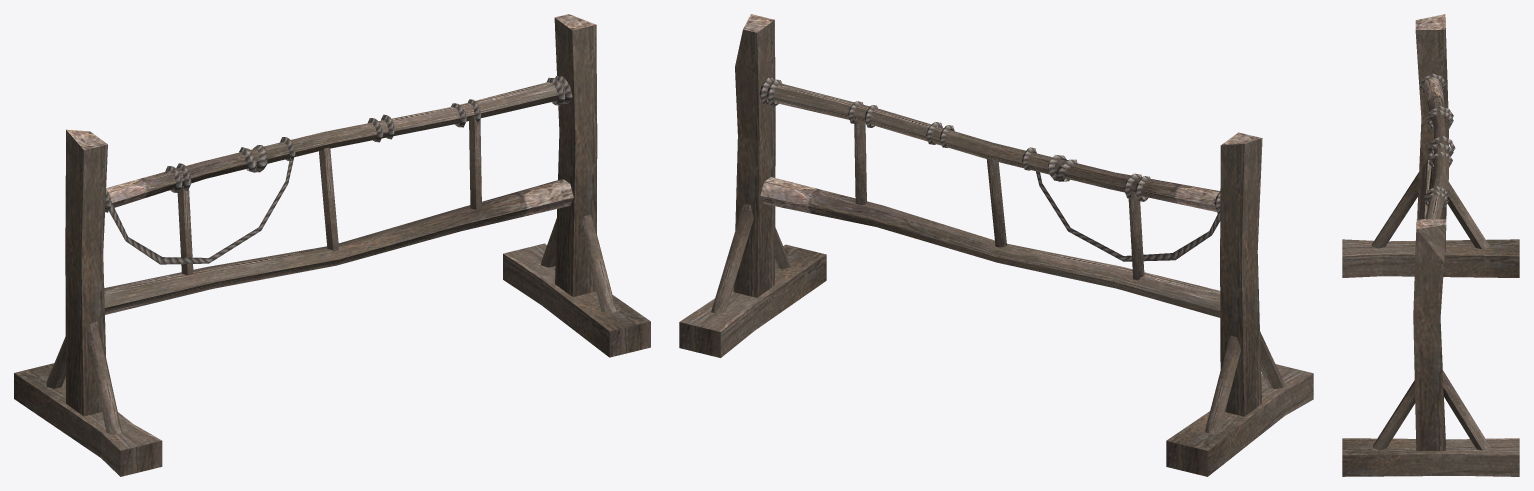
The model's file is bg_anh_mirrorv_dc07_sm_ysi.FBX.
3 views of the same model, side by side, from view 1: azimuth 30°, elevation 25°; view 2: azimuth 150°, elevation 25°; view 3: azimuth 270°, elevation 25° (orthographic). The views are drawn at different scales.
Visible parts, largest first — view 1: bg_anh_mirrorv_dc07_sm_ysi; view 2: bg_anh_mirrorv_dc07_sm_ysi; view 3: bg_anh_mirrorv_dc07_sm_ysi.
Boxes of the visible parts, x1,y1,x2,y2 form: bg_anh_mirrorv_dc07_sm_ysi: [14, 14, 650, 476]; bg_anh_mirrorv_dc07_sm_ysi: [679, 14, 1313, 476]; bg_anh_mirrorv_dc07_sm_ysi: [1342, 14, 1519, 476].
Size of the model in its own units: 321 by 174 by 112.
